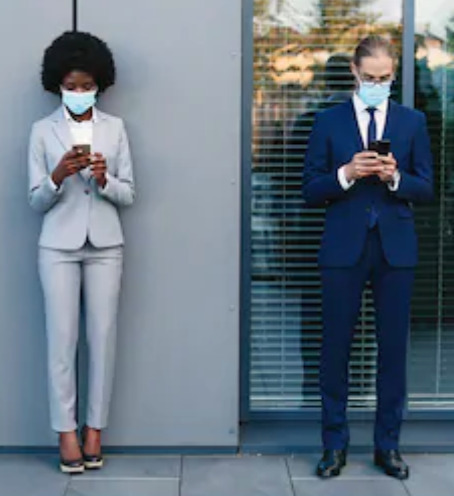Caution: (27, 28, 435, 480)
